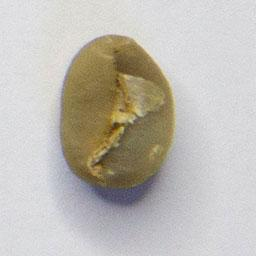premium: (56, 32, 178, 192)
